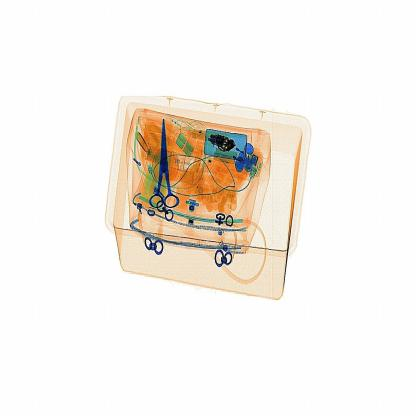gun: (136, 107, 186, 217)
